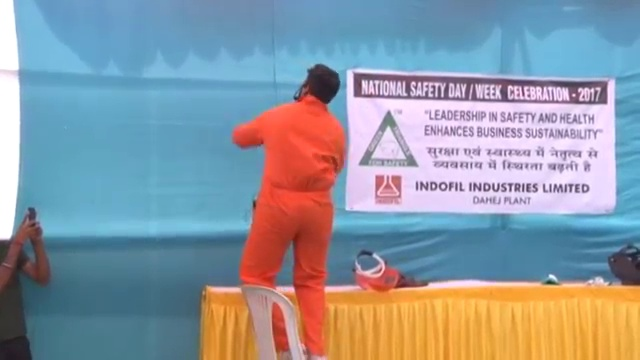helmet_off: (295, 64, 338, 107)
person: (237, 64, 351, 360), (1, 209, 53, 360)
